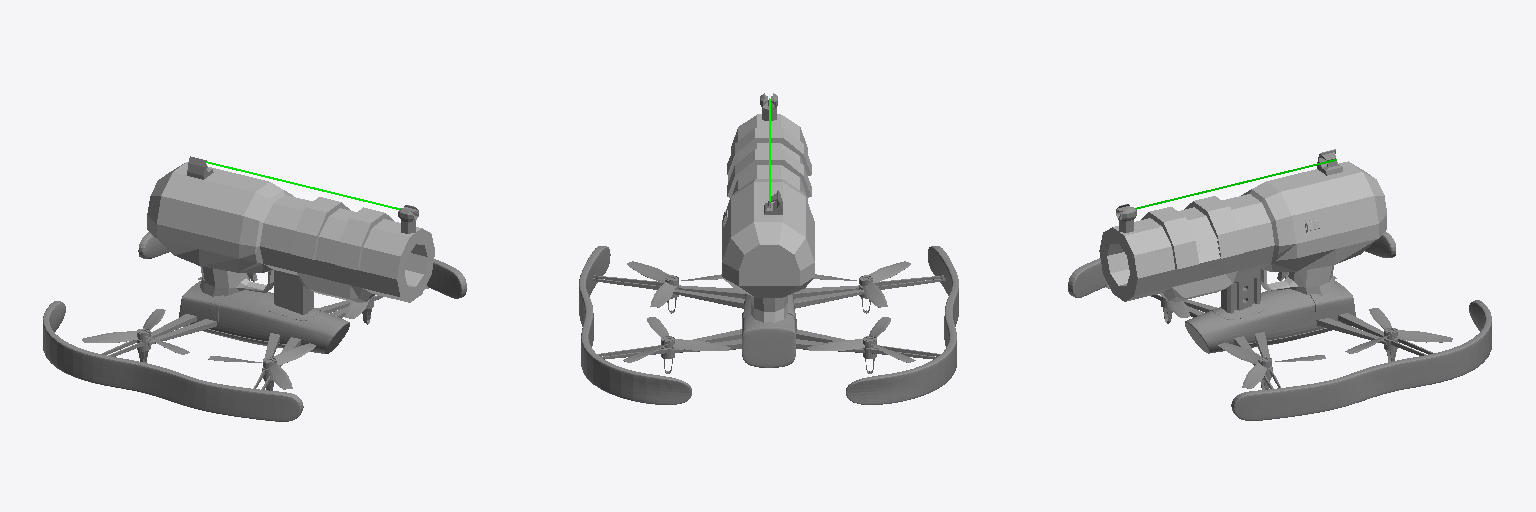
Rendered from finno_autism_drone.obj.
3 renders of one model, left to right at view 1: azimuth 30°, elevation 25°; view 2: azimuth 150°, elevation 25°; view 3: azimuth 270°, elevation 25°, orthographic.
Visible parts, largest first — view 1: toonGun_Main, Cubo_8, Cilindro_5, Clip, Cubo_1_8, Cubo_2; view 2: toonGun_Main, Cubo_8, Cilindro_5, Cubo_5, Cubo_1_4, Cubo_1_5, Cubo_2_3, Cubo_3_3, Cubo_2; view 3: toonGun_Main, Cubo_8, Cilindro_5, Clip, Cubo_1_8, Cubo_2.
Part boxes in pixels (bbox=[...]): toonGun_Main: bbox=[147, 156, 434, 302]; Cubo_8: bbox=[43, 232, 466, 421]; Cilindro_5: bbox=[179, 280, 349, 353]; Clip: bbox=[274, 270, 313, 314]; Cubo_1_8: bbox=[273, 299, 369, 364]; Cubo_2: bbox=[148, 273, 249, 345]; toonGun_Main: bbox=[722, 93, 814, 322]; Cubo_8: bbox=[579, 246, 958, 404]; Cilindro_5: bbox=[742, 294, 796, 367]; Cubo_5: bbox=[673, 289, 864, 308]; Cubo_1_4: bbox=[672, 339, 865, 350]; Cubo_1_5: bbox=[679, 285, 858, 298]; Cubo_2_3: bbox=[627, 261, 910, 282]; Cubo_3_3: bbox=[650, 282, 887, 307]; Cubo_2: bbox=[693, 329, 844, 342]; toonGun_Main: bbox=[1099, 149, 1386, 301]; Cubo_8: bbox=[1068, 231, 1491, 420]; Cilindro_5: bbox=[1185, 279, 1355, 353]; Clip: bbox=[1221, 269, 1260, 313]; Cubo_1_8: bbox=[1166, 299, 1261, 364]; Cubo_2: bbox=[1285, 272, 1386, 344].
Bounding box in the file's own units: 1.48 × 0.665 × 1.45.